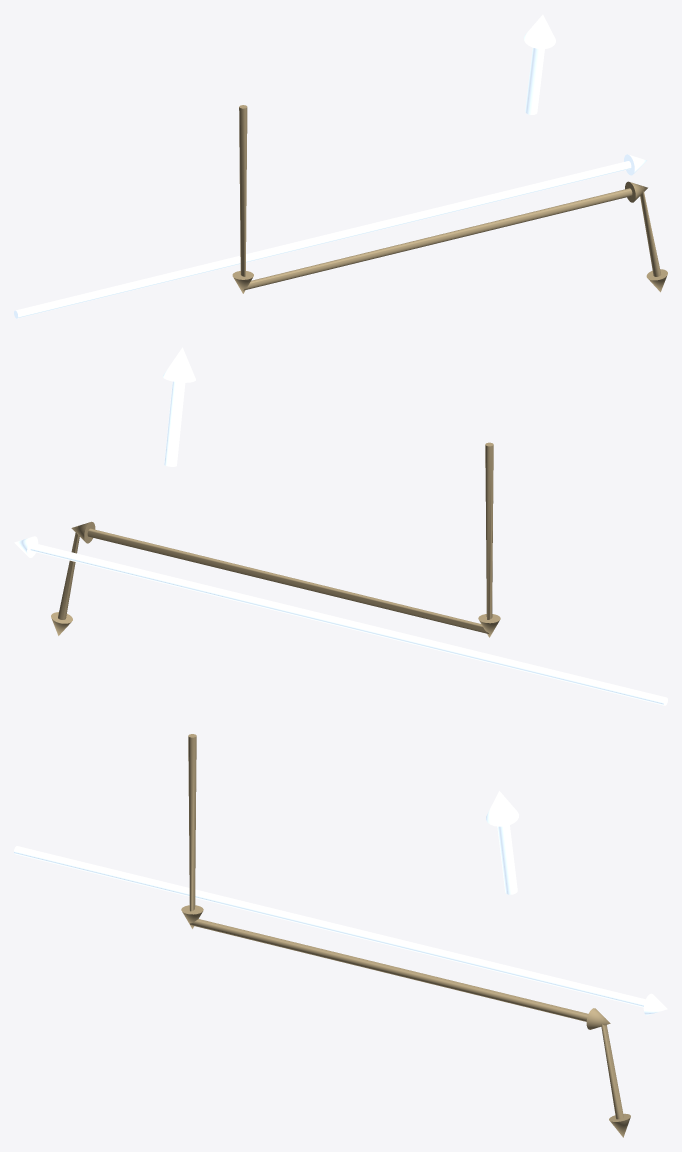
Rendered from paddle_dryer_flow.glb.
3 renders of one model, top to bottom at view 1: azimuth 30°, elevation 25°; view 2: azimuth 150°, elevation 25°; view 3: azimuth 330°, elevation 25°, orthographic. The views are drawn at different scales.
Visible parts, largest first — view 1: material, steam, vapour_out; view 2: material, steam, vapour_out; view 3: material, steam, vapour_out.
Part boxes in pixels (bbox=[...]): material: bbox=[232, 105, 667, 293]; steam: bbox=[14, 154, 646, 318]; vapour_out: bbox=[523, 14, 555, 114]; material: bbox=[51, 442, 500, 637]; steam: bbox=[14, 536, 667, 705]; vapour_out: bbox=[163, 347, 195, 466]; material: bbox=[181, 734, 630, 1137]; steam: bbox=[14, 846, 667, 1015]; vapour_out: bbox=[486, 791, 518, 894].
Size of the model in its own units: 3.49 by 1.63 by 0.3808.
